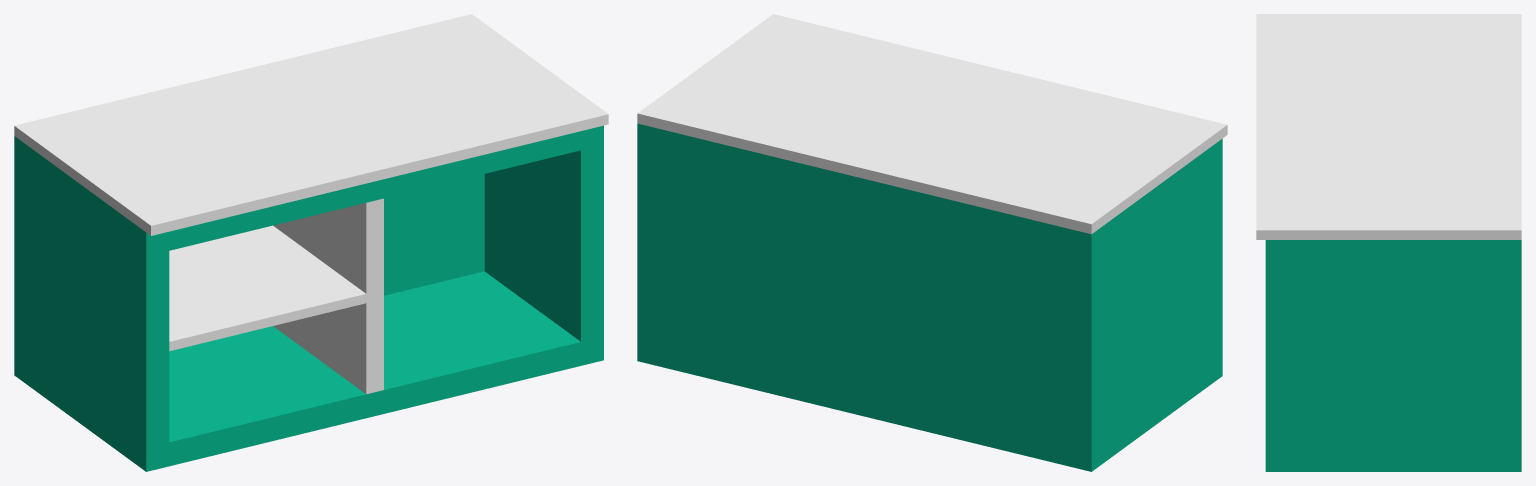
The model's file is Counter2.fbx.
3 renders of one model, left to right at view 1: azimuth 30°, elevation 25°; view 2: azimuth 150°, elevation 25°; view 3: azimuth 270°, elevation 25°, orthographic. The views are drawn at different scales.
Parts seen in each view (by area): view 1: counter2; view 2: counter2; view 3: counter2.
Part boxes in pixels (bbox=[...]): counter2: bbox=[14, 14, 608, 471]; counter2: bbox=[637, 14, 1227, 471]; counter2: bbox=[1256, 14, 1521, 471].
Size of the model in its own units: 400 by 208 by 207.
